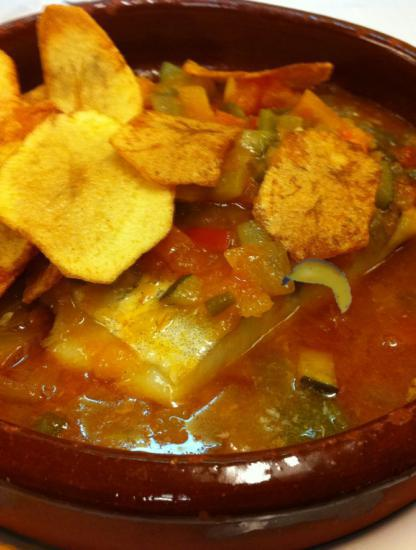Banana: (286, 254, 356, 324)
